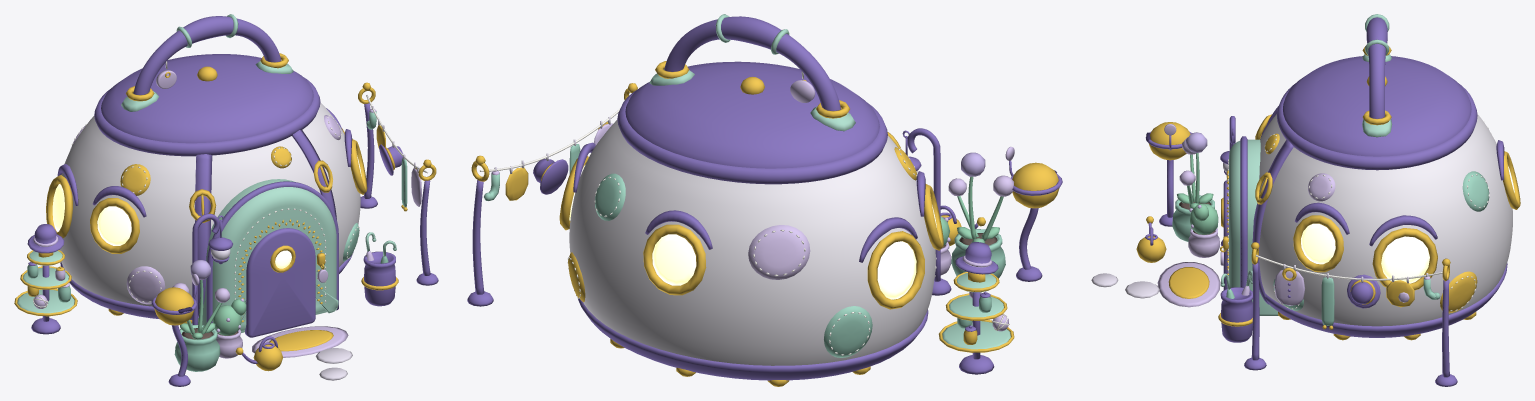
The model's file is house_08_0804.fbx.
3 views of the same model, side by side, from view 1: azimuth 30°, elevation 25°; view 2: azimuth 150°, elevation 25°; view 3: azimuth 270°, elevation 25° (orthographic). The views are drawn at different scales.
Visible parts, largest first — view 1: House_Body_Bag, House_Lid, Entrance_Pocket, Entrance_Door, House_RimPiping, Roof_Handle, Window_Grommets, Prop_RoundShelf, Wall_Straps, Entrance_Mat, Prop_Clothesline_Posts, Window_Glass (+25 smaller); view 2: House_Body_Bag, House_Lid, Window_Grommets, House_RimPiping, House_BaseTrim, Roof_Handle, Prop_RoundShelf, Window_Glass, Wall_Patches_Mint, Wall_Patches_Pink, Window_Eyelids, Prop_Laundry (+11 smaller); view 3: House_Body_Bag, House_Lid, Prop_Laundry, House_RimPiping, Entrance_Pocket, Window_Grommets, Window_Glass, House_BaseTrim, Entrance_Mat, Prop_Clothesline_Posts, Roof_Handle, Prop_UmbrellaStand (+19 smaller).
Boxes of the visible parts, box(x1,y1,x2,y2) form: House_Body_Bag: box(59, 102, 360, 306); House_Lid: box(101, 54, 313, 143); Entrance_Pocket: box(191, 179, 338, 332); Entrance_Door: box(245, 228, 315, 337); House_RimPiping: box(94, 77, 320, 156); Roof_Handle: box(133, 16, 281, 95); Window_Grommets: box(46, 128, 367, 253); Prop_RoundShelf: box(14, 250, 77, 334); Wall_Straps: box(195, 130, 336, 317); Entrance_Mat: box(252, 326, 348, 357); Prop_Clothesline_Posts: box(360, 103, 438, 285); Window_Glass: box(52, 155, 361, 245); House_Body_Bag: box(569, 120, 935, 365); House_Lid: box(625, 61, 879, 168); Window_Grommets: box(559, 156, 943, 309); House_RimPiping: box(617, 90, 887, 184); House_BaseTrim: box(577, 297, 928, 380); Roof_Handle: box(664, 16, 840, 110); Prop_RoundShelf: box(938, 272, 1014, 374); Window_Glass: box(569, 165, 936, 299); Wall_Patches_Mint: box(595, 173, 872, 357); Wall_Patches_Pink: box(748, 225, 935, 279); Window_Eyelids: box(573, 142, 925, 262); Prop_Laundry: box(484, 122, 612, 200); House_Body_Bag: box(1259, 114, 1512, 326); House_Lid: box(1283, 56, 1471, 156); Prop_Laundry: box(1274, 267, 1440, 329); House_RimPiping: box(1277, 84, 1477, 170); Entrance_Pocket: box(1229, 139, 1278, 315); Window_Grommets: box(1293, 151, 1520, 290); Window_Glass: box(1301, 166, 1514, 283); House_BaseTrim: box(1265, 263, 1507, 337); Entrance_Mat: box(1157, 262, 1220, 307); Prop_Clothesline_Posts: box(1244, 263, 1457, 386); Roof_Handle: box(1366, 17, 1387, 118); Prop_UmbrellaStand: box(1218, 287, 1252, 342).
Size of the model in its own units: 6.32 by 3.85 by 5.71.
